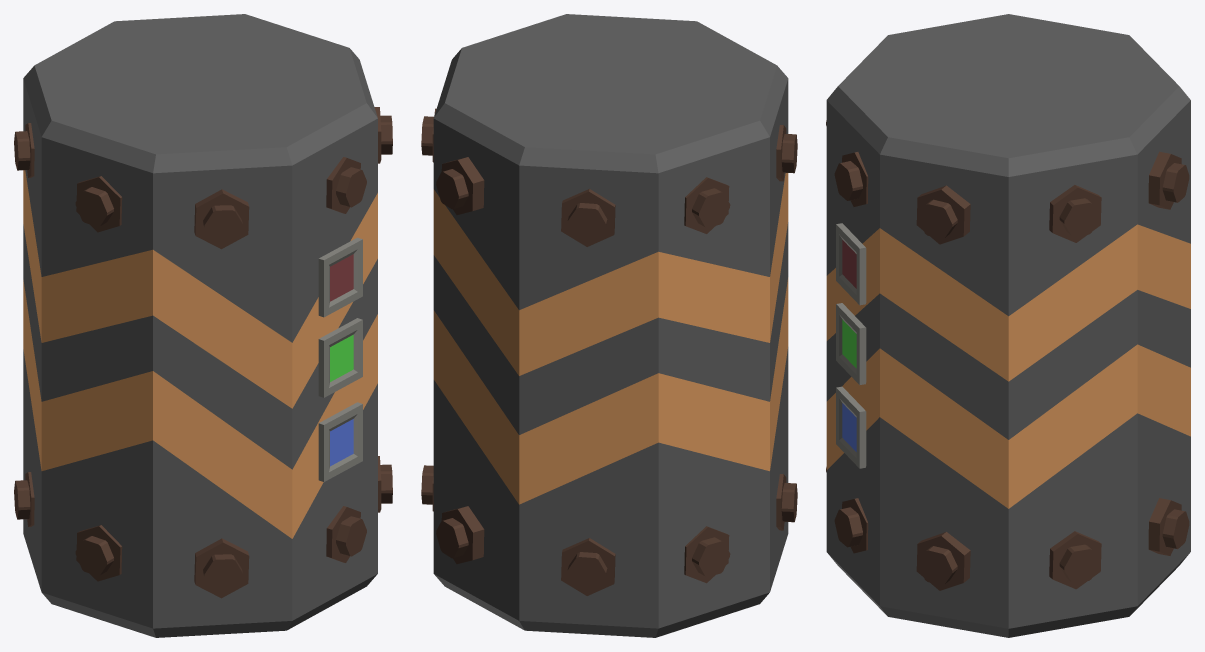
3 renders of one model, left to right at view 1: azimuth 30°, elevation 25°; view 2: azimuth 150°, elevation 25°; view 3: azimuth 270°, elevation 25°, orthographic.
Visible parts, largest first — view 1: 柱体.004; view 2: 柱体.004; view 3: 柱体.004.
Boxes of the visible parts, x1,y1,x2,y2 form: 柱体.004: (14,14,392,637); 柱体.004: (421,14,797,637); 柱体.004: (826,14,1190,637).
Bounding box in the file's own units: 254 × 365 × 252.
